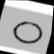no answer: (8, 18, 47, 47)
